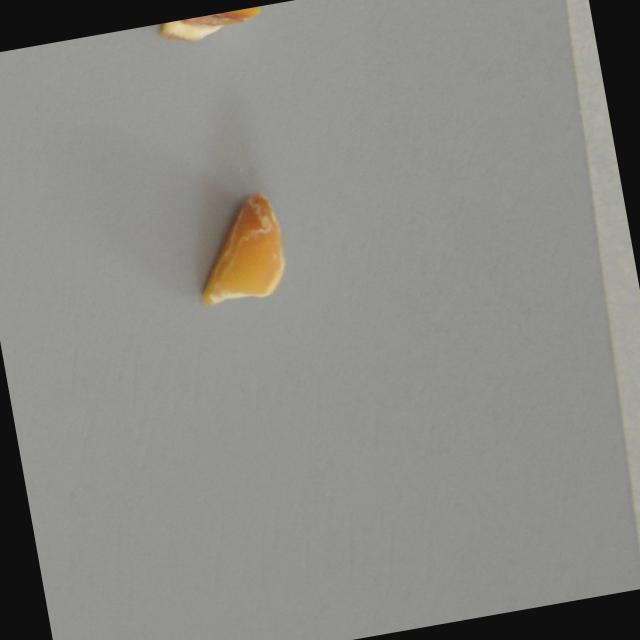dañado: (176, 182, 300, 314), (155, 5, 269, 51)
